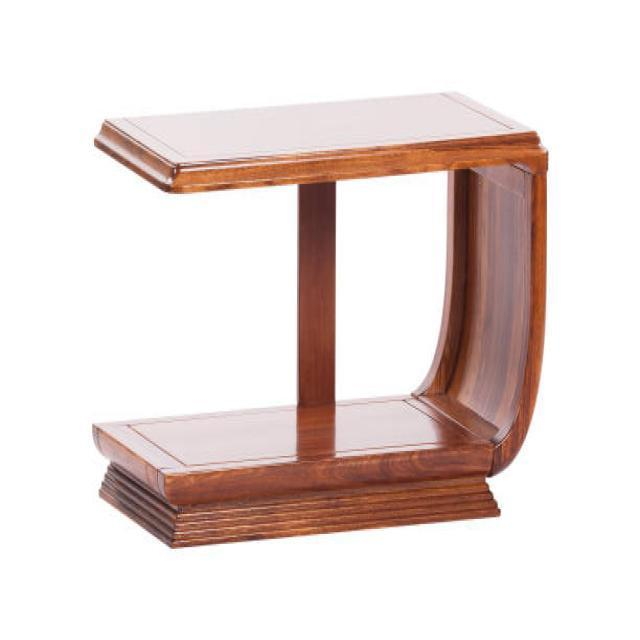table: (91, 88, 549, 549)
